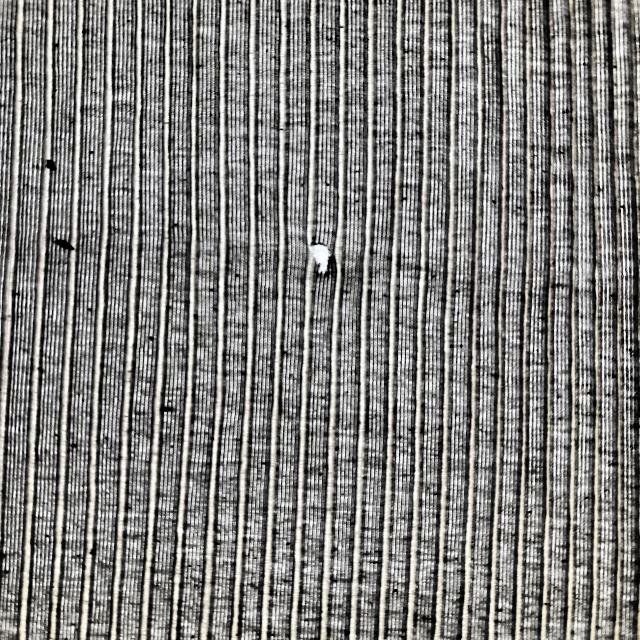Hole: (237, 295, 278, 344), (236, 555, 261, 605), (153, 564, 177, 606), (399, 460, 420, 484)
